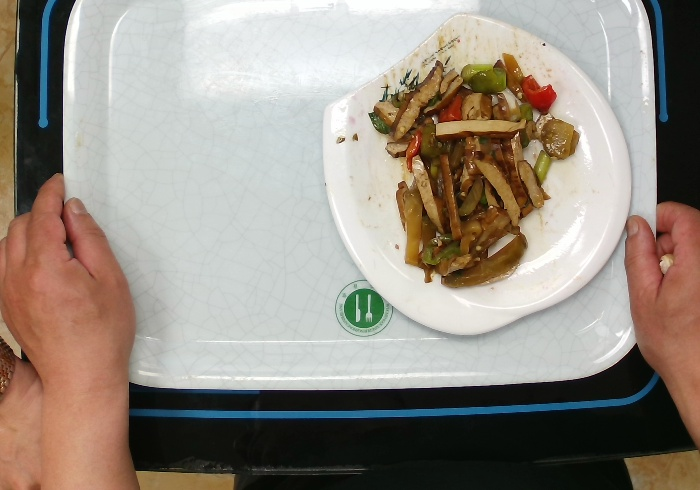JYsf-Mian_Pan: (316, 8, 638, 341)
